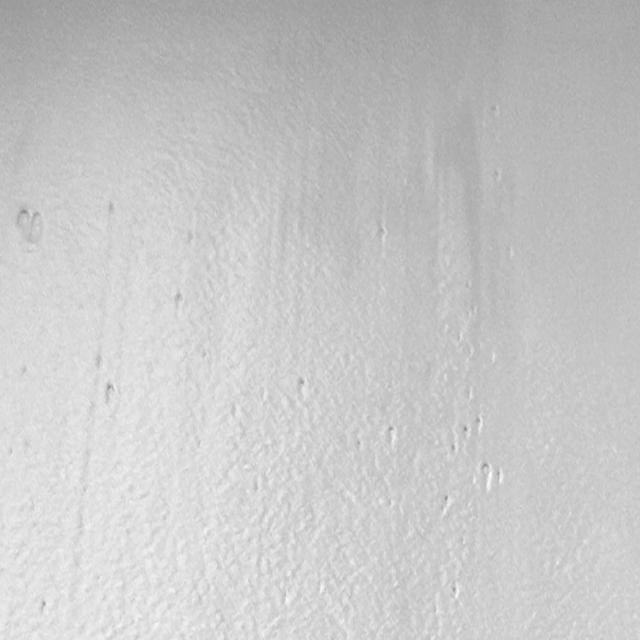pin holes: (28, 210, 46, 252), (101, 382, 122, 412), (478, 461, 496, 491), (292, 376, 312, 402), (170, 287, 190, 313), (13, 206, 30, 234), (373, 222, 391, 247), (36, 598, 55, 620), (483, 466, 502, 488), (384, 425, 402, 447), (448, 580, 465, 602), (472, 415, 487, 438), (93, 354, 108, 374), (104, 198, 119, 218), (354, 437, 367, 453), (462, 423, 473, 441), (441, 494, 452, 512), (448, 441, 459, 459)
